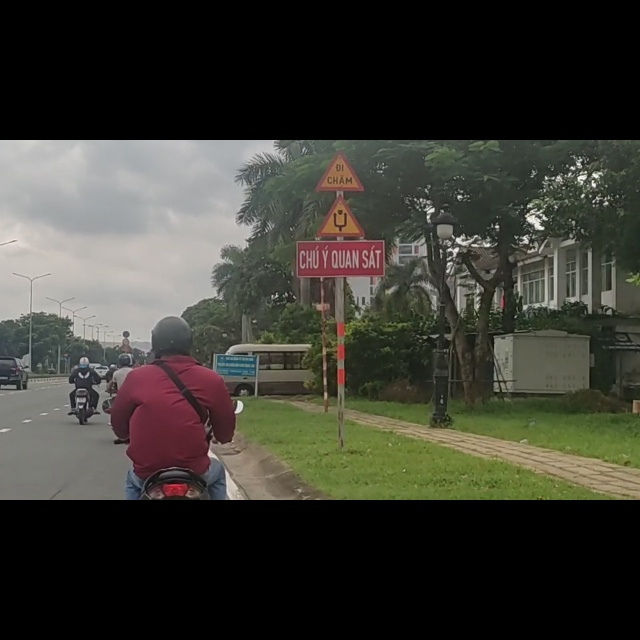bien_hieu_lenh: (317, 95, 367, 173), (315, 19, 365, 91), (122, 338, 131, 352), (63, 386, 69, 395), (63, 377, 69, 385)
